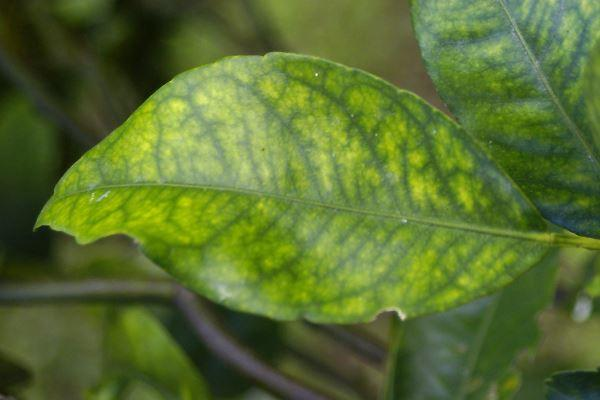Citrus Greening: (33, 67, 577, 318)
